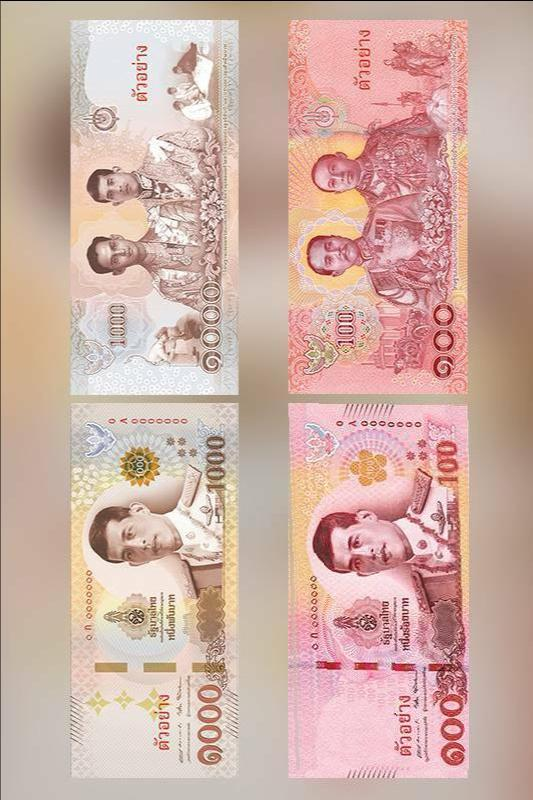100BahtTai: (285, 401, 469, 771)
